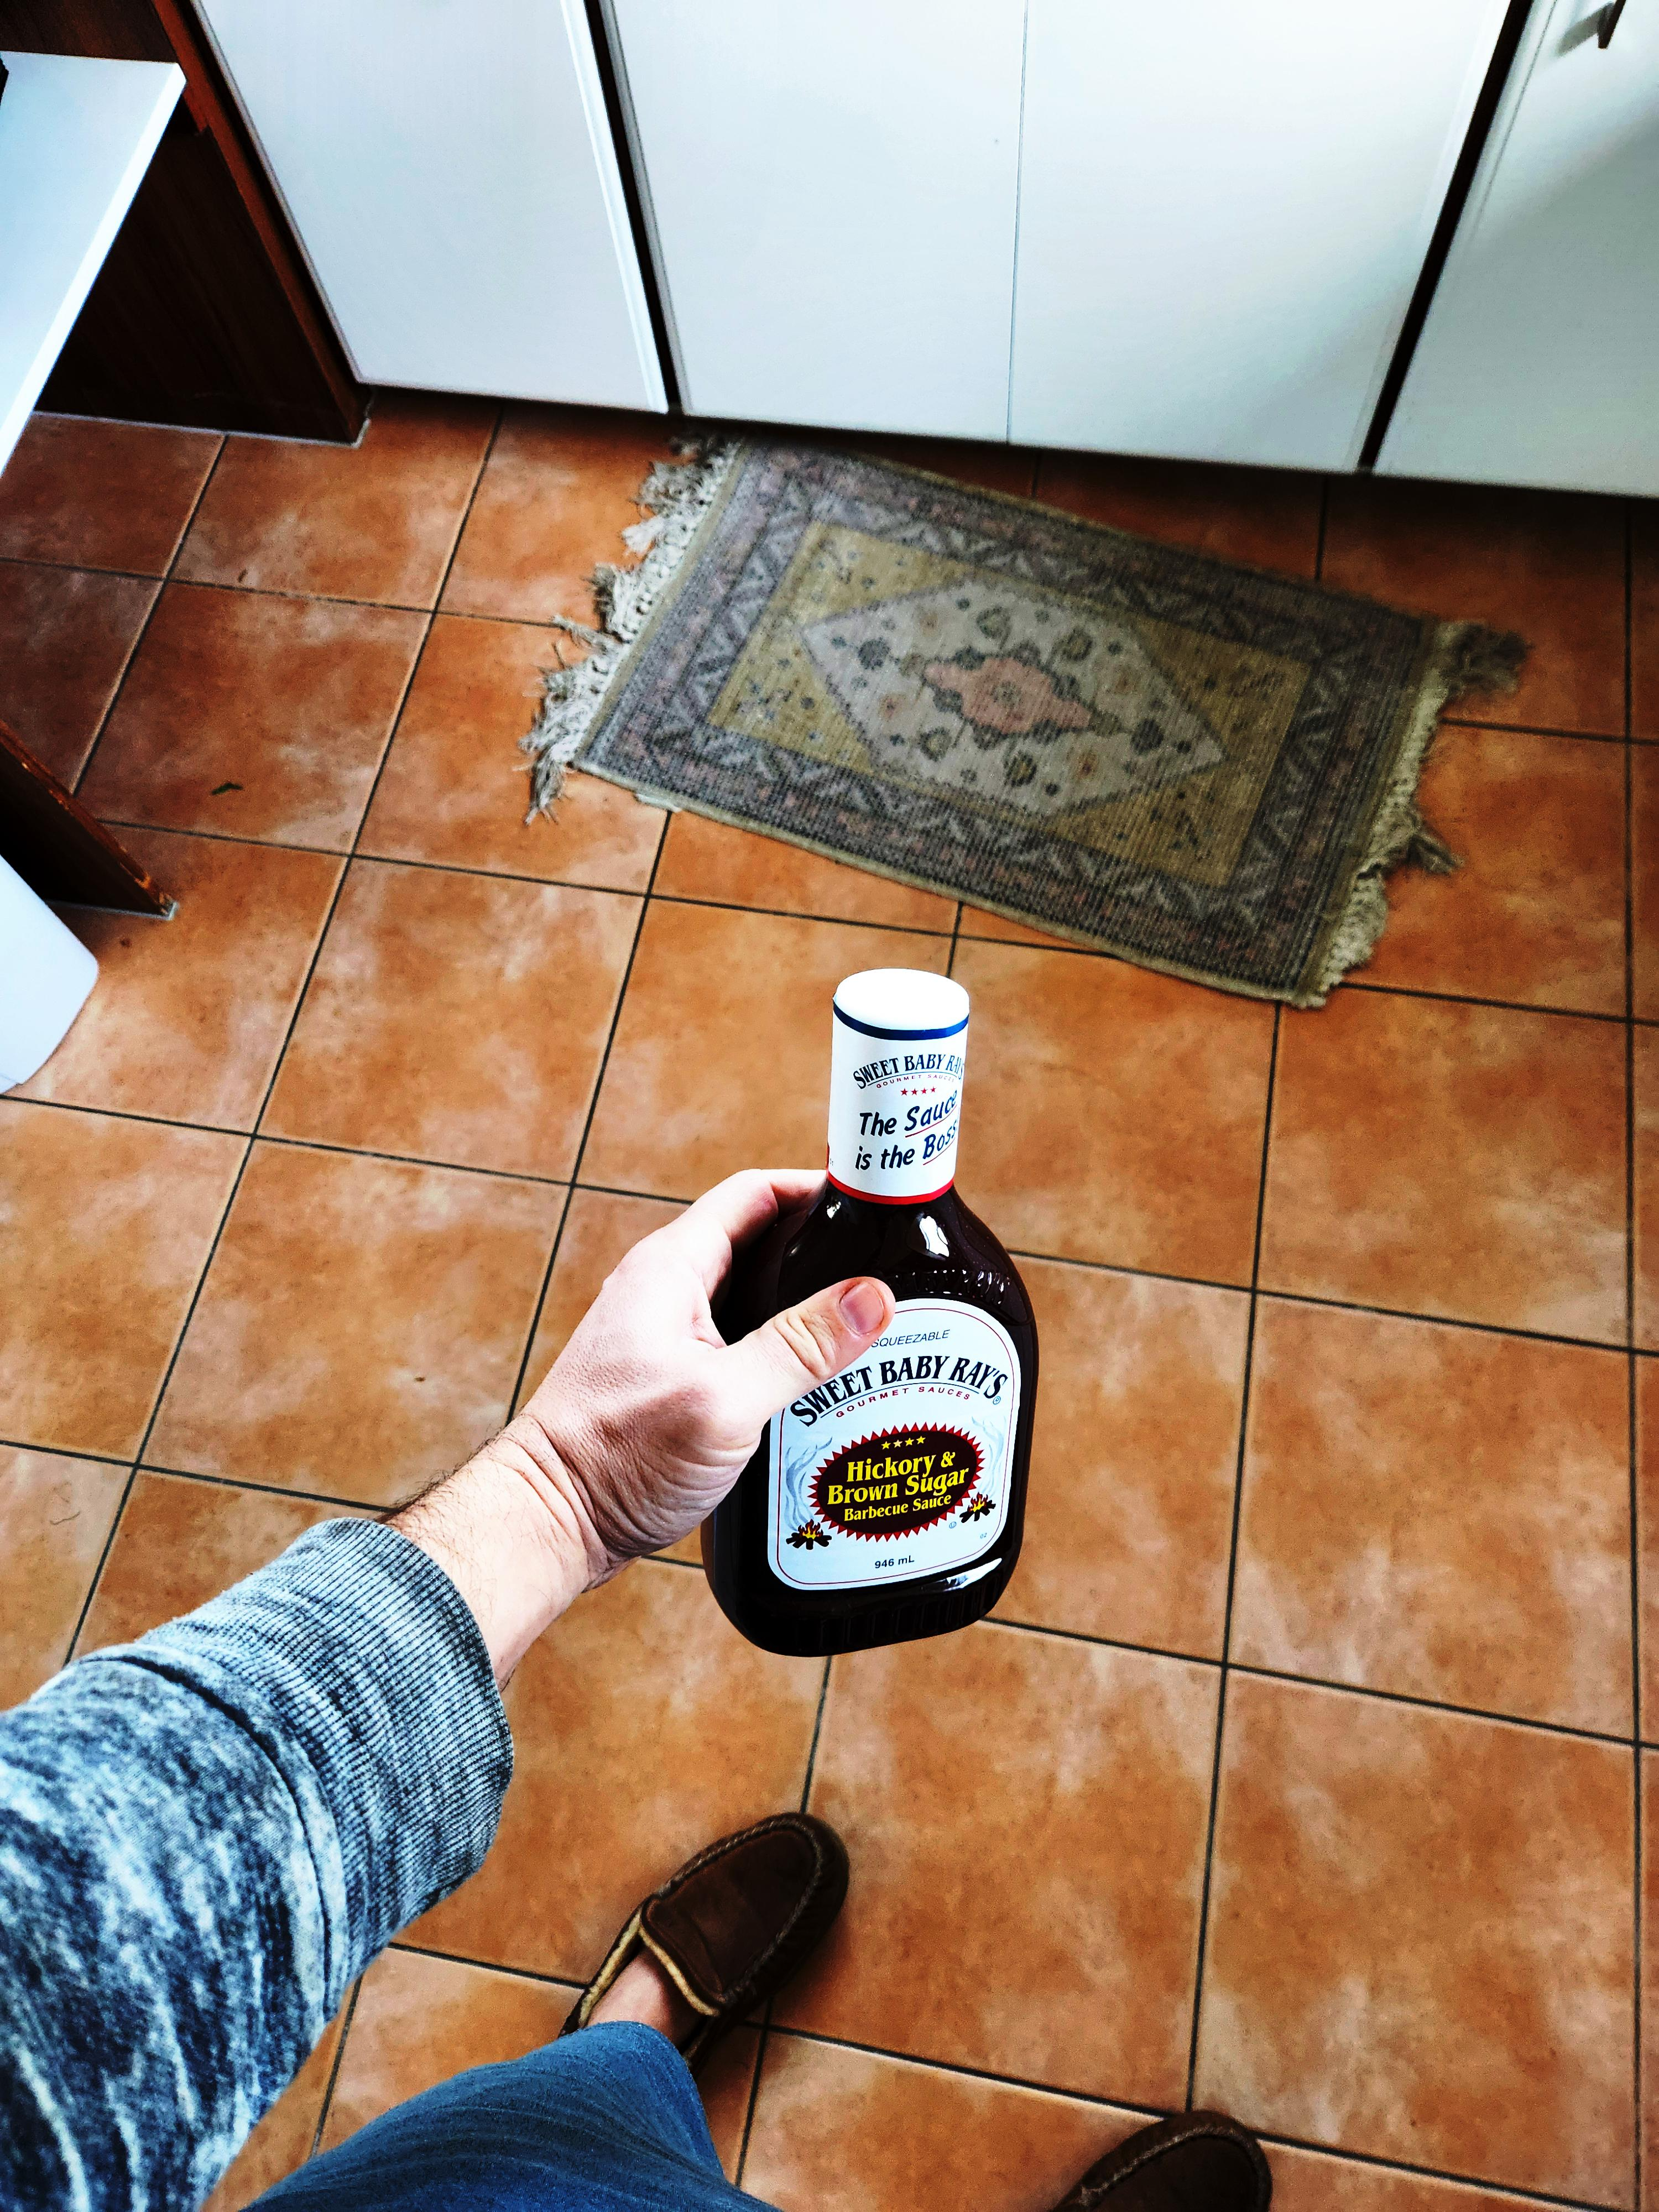barbecue sauce: (521, 1291, 781, 2212)
